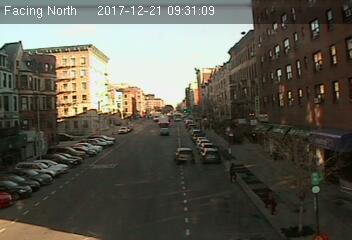car: (174, 145, 194, 163), (159, 127, 170, 137)
truck: (200, 147, 219, 164)
